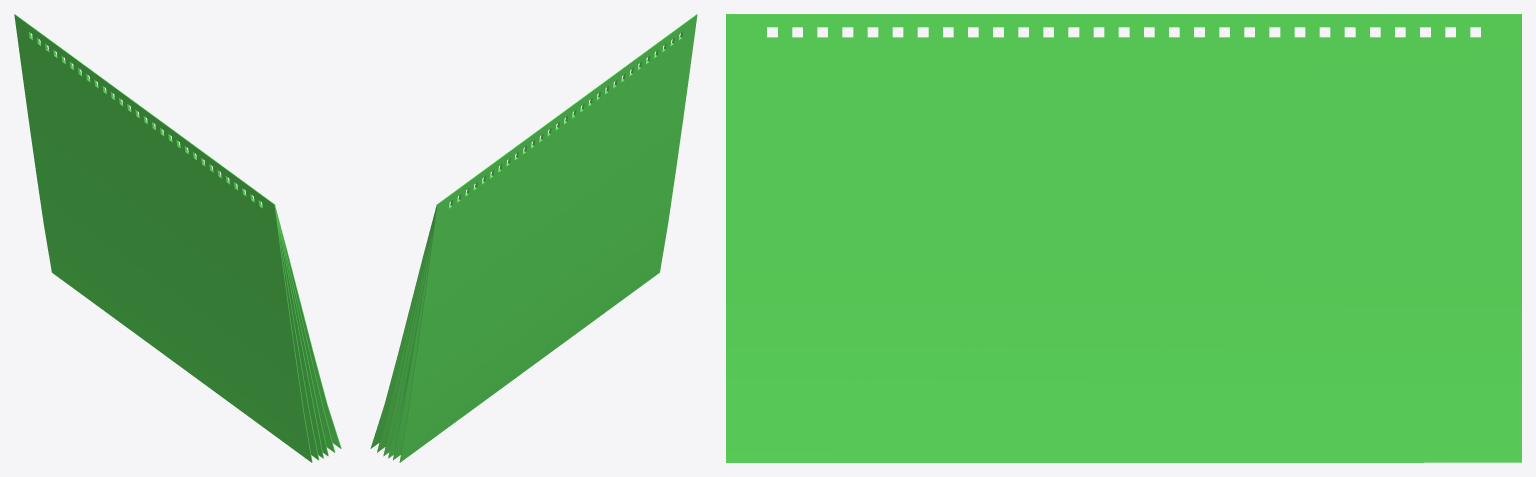
Rendered from paper_taili3.obj.
The picture shows the model from 3 angles, left to right: view 1: azimuth 30°, elevation 25°; view 2: azimuth 150°, elevation 25°; view 3: azimuth 270°, elevation 25°; orthographic projection. The views are drawn at different scales.
Visible parts, largest first — view 1: _taili:Line07 group1; view 2: _taili:Line07 group1; view 3: _taili:Line07 group1.
Boxes of the visible parts, x1,y1,x2,y2 form: _taili:Line07 group1: [14, 14, 341, 462]; _taili:Line07 group1: [370, 14, 697, 462]; _taili:Line07 group1: [726, 14, 1521, 462].
Size of the model in its own units: 3.87 by 14.7 by 25.89.
